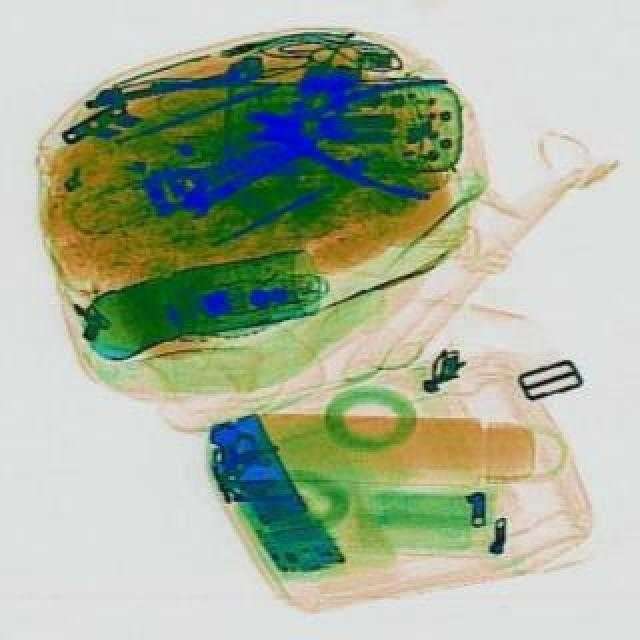scissors: (182, 144, 306, 224), (136, 62, 260, 110)
wrench: (246, 68, 452, 204)
